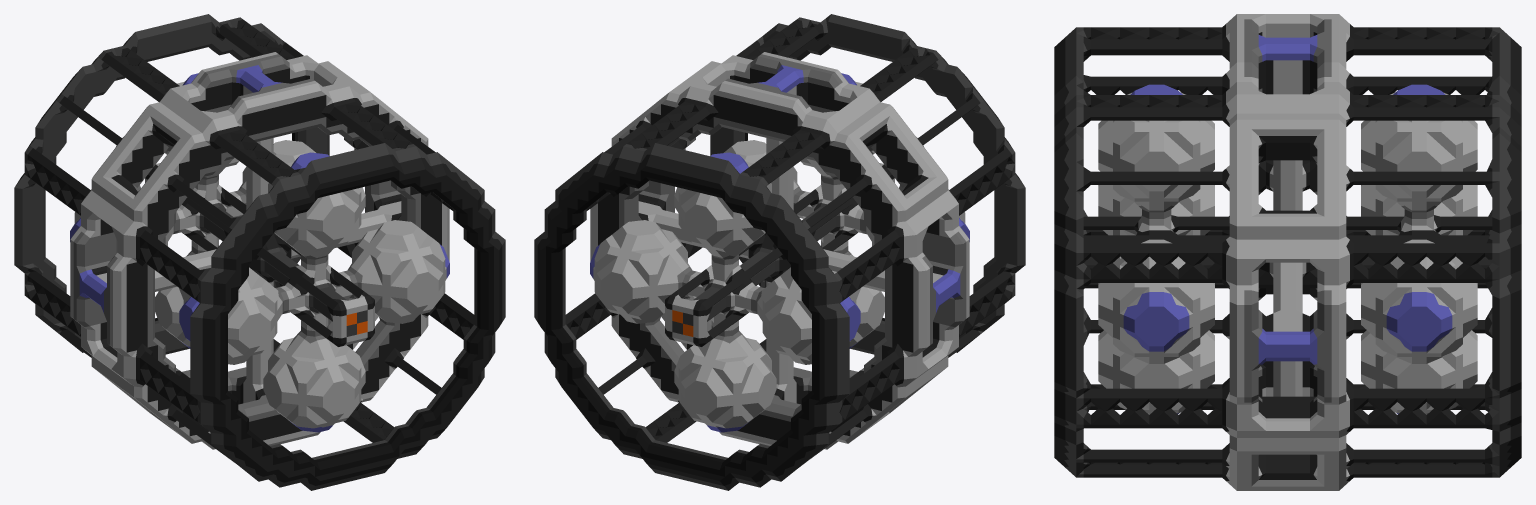
The model's file is entertainment_medium.fbx.
3 views of the same model, side by side, from view 1: azimuth 30°, elevation 25°; view 2: azimuth 150°, elevation 25°; view 3: azimuth 270°, elevation 25° (orthographic). The views are drawn at different scales.
Visible parts, largest first — view 1: entertainment_medium; view 2: entertainment_medium; view 3: entertainment_medium.
Boxes of the visible parts, <box> form: entertainment_medium: <box>14,14,505,490</box>; entertainment_medium: <box>534,14,1025,490</box>; entertainment_medium: <box>1054,14,1521,490</box>.
Bounding box in the file's own units: 3200 × 3200 × 3200.
